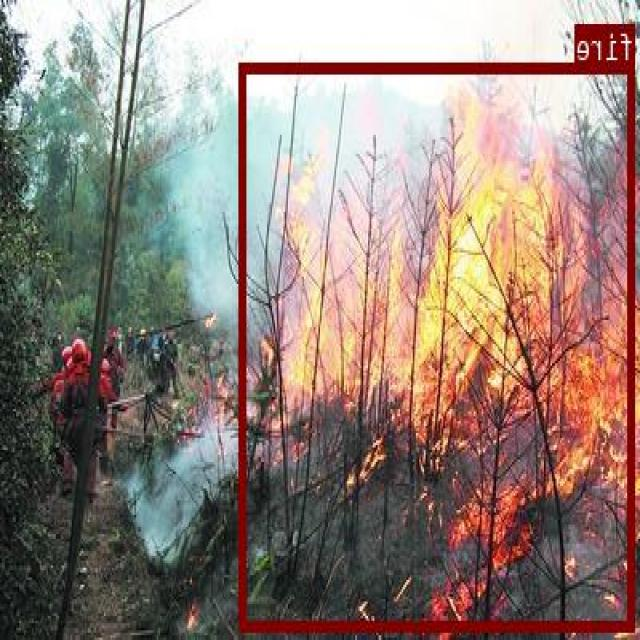fire: (241, 61, 636, 630)
